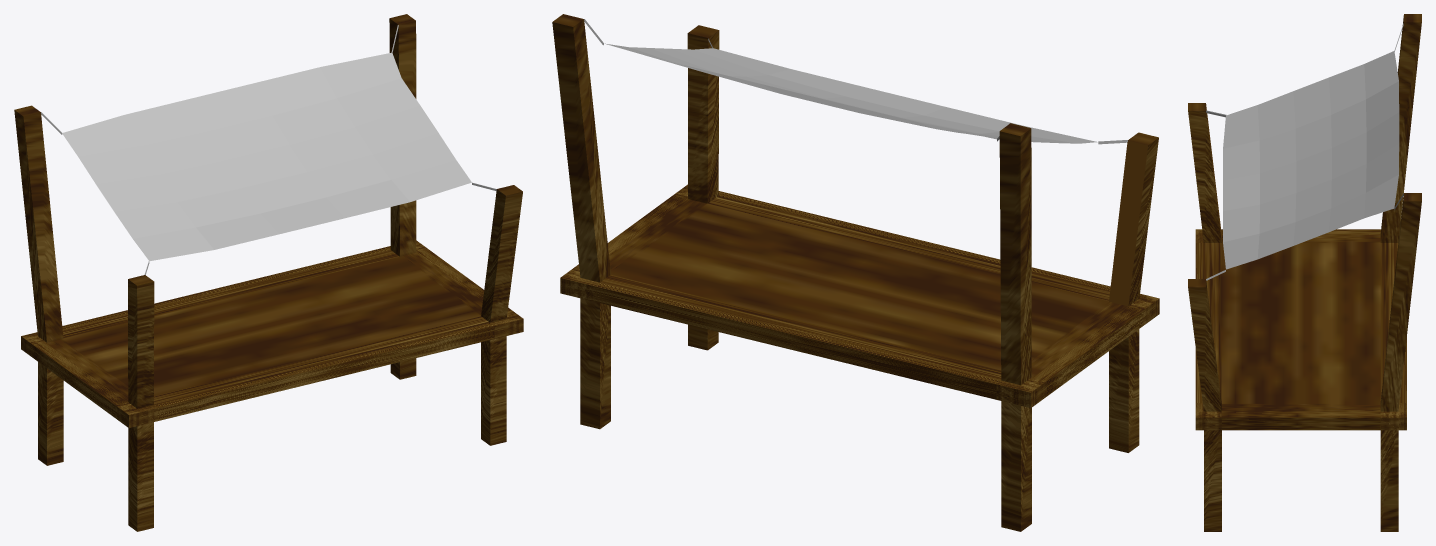
The model's file is StallBase.glb.
3 views of the same model, side by side, from view 1: azimuth 30°, elevation 25°; view 2: azimuth 150°, elevation 25°; view 3: azimuth 270°, elevation 25° (orthographic). The views are drawn at different scales.
Parts seen in each view (by area): view 1: Cube; view 2: Cube; view 3: Cube.
Boxes of the visible parts, x1=… form: Cube: x1=14, y1=14, x2=523, y2=531; Cube: x1=552, y1=14, x2=1159, y2=531; Cube: x1=1188, y1=14, x2=1421, y2=531.
Size of the model in its own units: 1.9 by 1.58 by 0.9964.
Materials: 3 (1 with a texture image).
